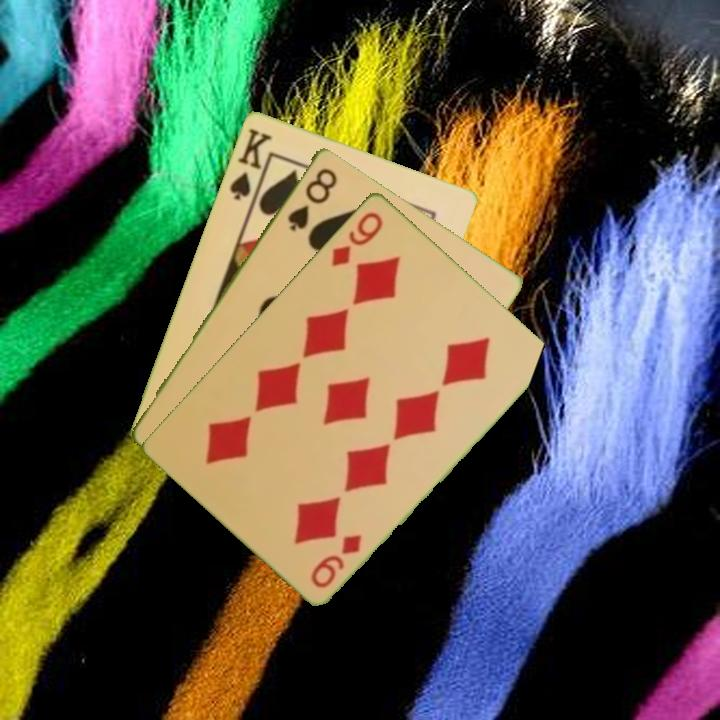8s: (283, 163, 340, 234)
9d: (327, 207, 386, 269), (307, 530, 365, 591)
Ks: (226, 124, 275, 203)
